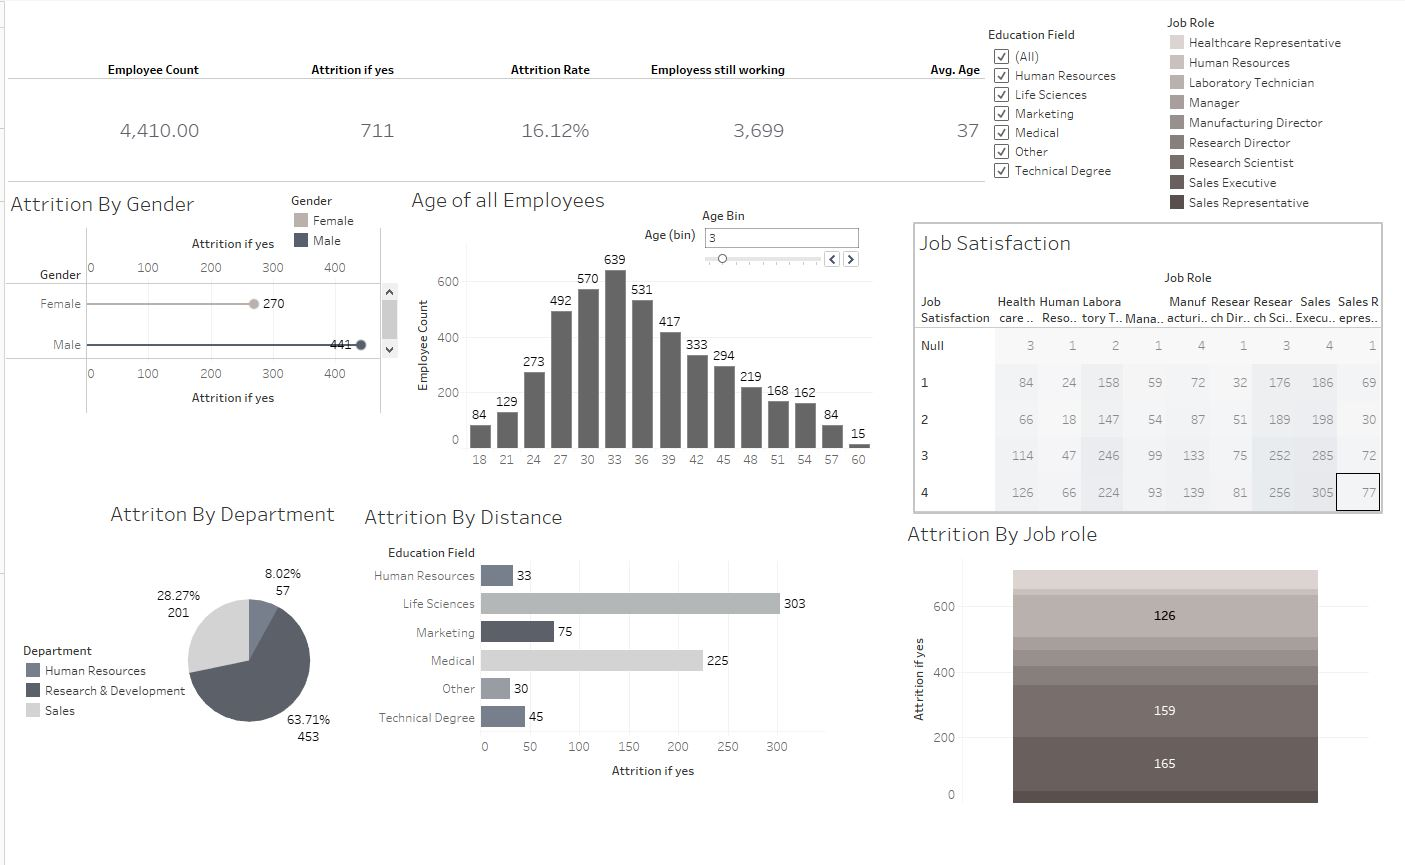

Layout of this report page (visuals, bound fields, positions):
{"tool":"tableau","page":{"name":"Dashboard 1","canvas":[1400,900],"ordinal":0},"visuals":[{"type":"legend","title":"Sheet 7","param":"[federated.0gabfzx1p7f5zg16w2ze40aezpr0].[none:JobRole:nk]","box":[1162,13,179,198]},{"type":"filter","title":"KPI","param":"[federated.0gabfzx1p7f5zg16w2ze40aezpr0].[none:EducationField:nk]","box":[983,25,160,157]},{"type":"worksheet","title":"KPI","mark":"Automatic","box":[3,37,977,144]},{"type":"worksheet","title":"Age of all Employees","mark":"Automatic","rows":["EmployeeCount"],"cols":["Age (bin)"],"box":[402,180,466,288]},{"type":"worksheet","title":"Attrition By Gender","mark":"Automatic","rows":["Gender"],"cols":["Calculation_799951932673613826","Calculation_799951932673613826"],"box":[1,184,410,229]},{"type":"legend","title":"Attrition By Gender","param":"[federated.0gabfzx1p7f5zg16w2ze40aezpr0].[none:Gender:nk]","box":[286,191,82,58]},{"type":"parameter","param":"[Parameters].[Parameter 1]","box":[697,206,160,67]},{"type":"worksheet","title":"Job Satisfaction ","mark":"Square","rows":["JobSatisfaction"],"cols":["JobRole"],"box":[910,223,466,288]},{"type":"worksheet","title":"Attriton By Department","mark":"Pie","box":[101,494,286,288]},{"type":"worksheet","title":"Attrition By Distance","mark":"Automatic","rows":["EducationField"],"cols":["Calculation_799951932673613826"],"box":[355,497,466,288]},{"type":"worksheet","title":"Sheet 7","mark":"Automatic","rows":["Calculation_799951932673613826"],"box":[898,514,466,288]},{"type":"legend","title":"Attriton By Department","param":"[federated.0gabfzx1p7f5zg16w2ze40aezpr0].[none:Department:nk]","box":[18,641,167,78]}]}

Visuals, with their boxes on the page's 1400x900 design canvas (x1, y1, x2, y2). These are canvas units, not pixel positions in the 1405x865 screenshot, which may show the page scaled, cropped or inside an application window:
"Sheet 7" legend: 1162/13/1341/211
"KPI" filter: 983/25/1143/182
"KPI" worksheet: 3/37/980/181
"Age of all Employees" worksheet: 402/180/868/468
"Attrition By Gender" worksheet: 1/184/411/413
"Attrition By Gender" legend: 286/191/368/249
parameter: 697/206/857/273
"Job Satisfaction " worksheet (Square marks): 910/223/1376/511
"Attriton By Department" worksheet (Pie marks): 101/494/387/782
"Attrition By Distance" worksheet: 355/497/821/785
"Sheet 7" worksheet: 898/514/1364/802
"Attriton By Department" legend: 18/641/185/719
